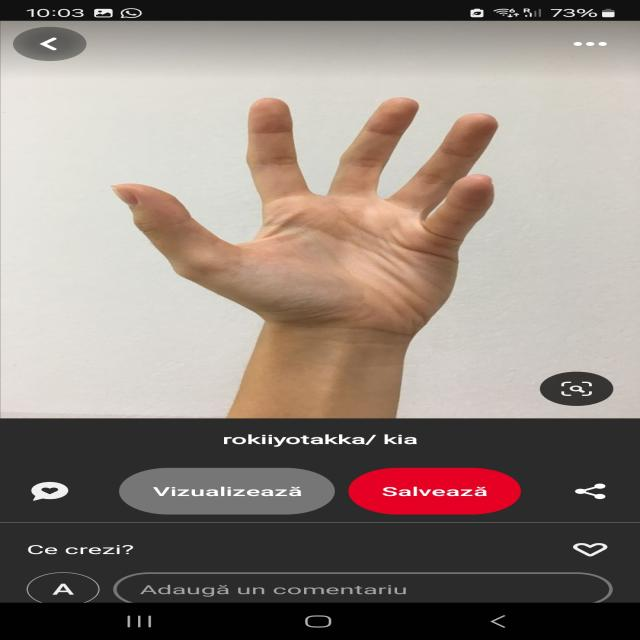hands: (59, 66, 590, 370)
